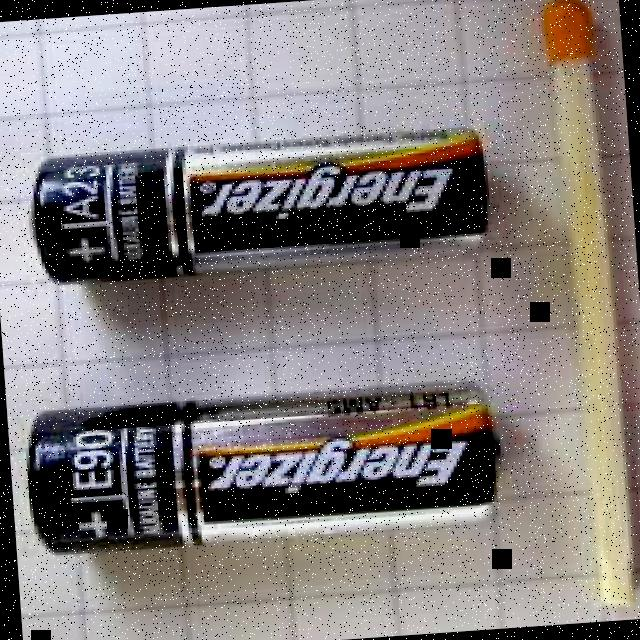battery: (25, 378, 498, 553), (32, 127, 491, 283)
